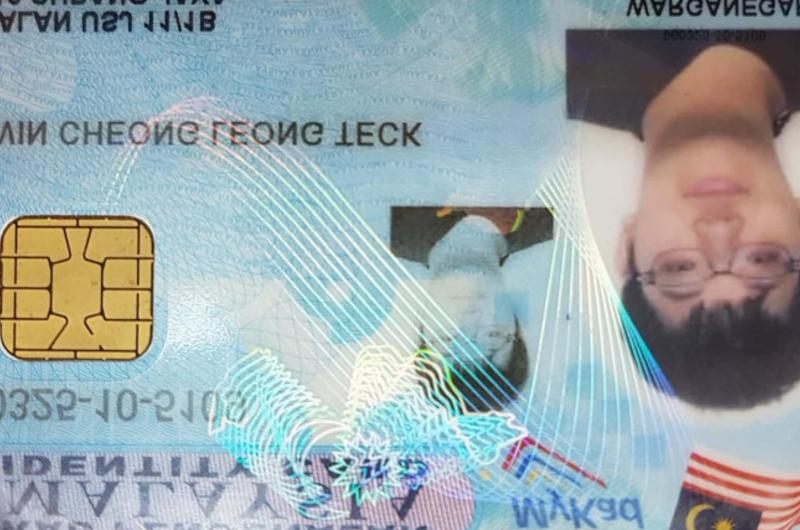hologram: (229, 148, 389, 341)
